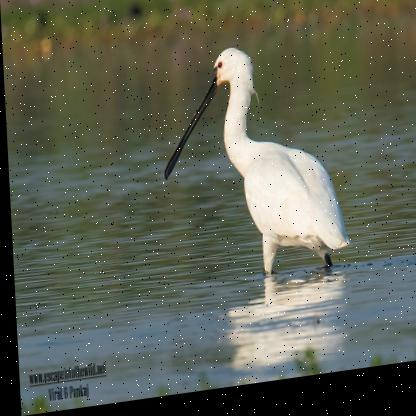Burung: (154, 40, 348, 294)
